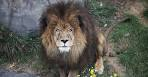lion: (40, 4, 107, 77)
